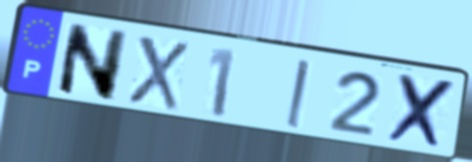1: (206, 46, 239, 120)
2: (326, 69, 385, 139)
I: (283, 57, 312, 132)
N: (53, 21, 131, 104)
X: (385, 71, 461, 154), (124, 32, 191, 114)
